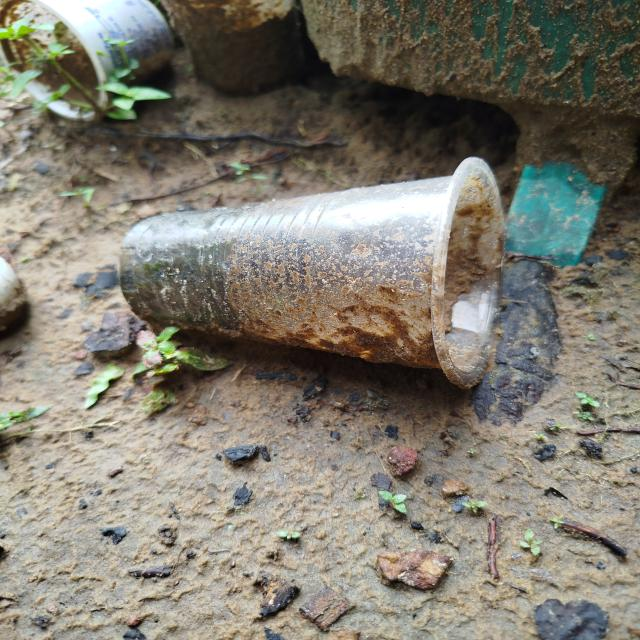plastic: (106, 144, 548, 411)
